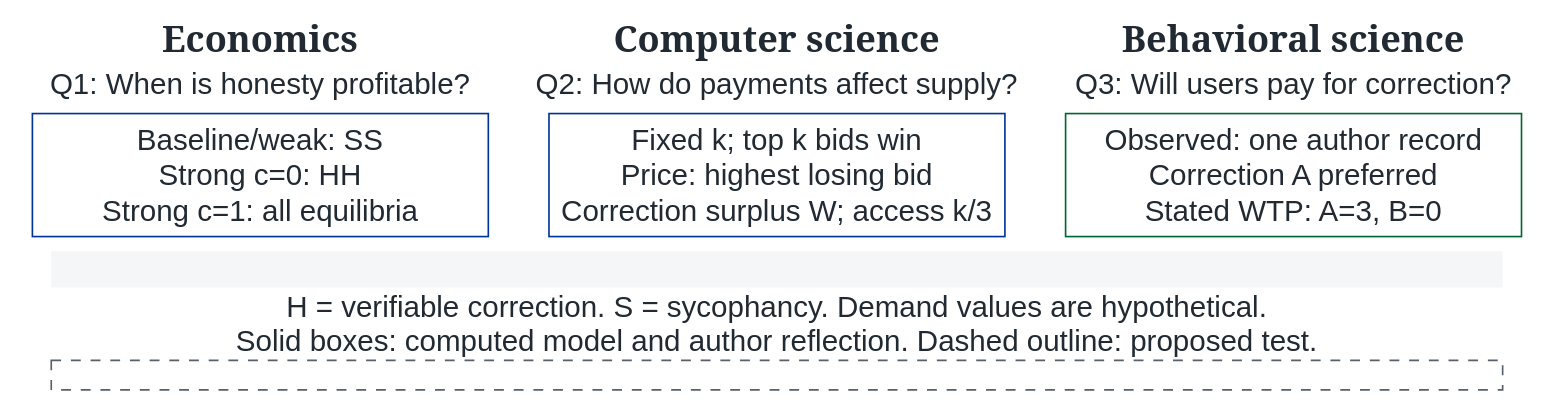
Some shapes in this 1553 by 407 pixel diagram are drawn without their labels. Each missing label, with the centre of its shape:
"Can net correction revenue change supply without sacrificing access?" goes at point (776, 269).
"Future design: matched tone/order, delayed accuracy, incentivized purchase." goes at point (776, 374).
